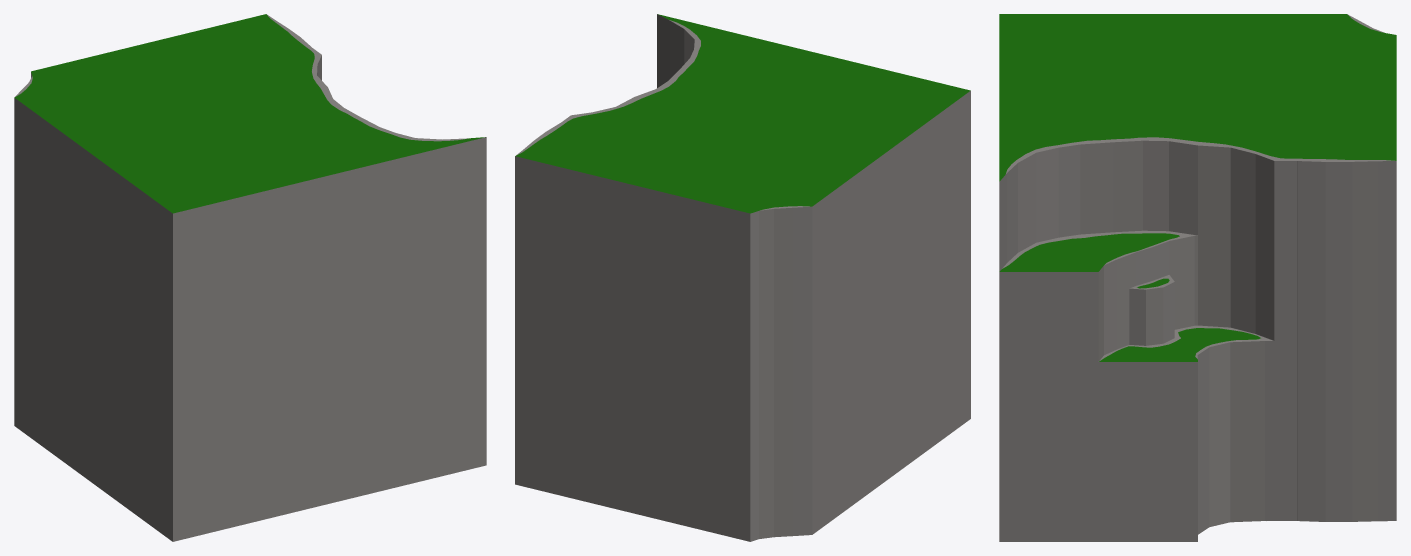
The model's file is StairToMountainDoubleMountain.fbx.
The picture shows the model from 3 angles, left to right: view 1: azimuth 30°, elevation 25°; view 2: azimuth 150°, elevation 25°; view 3: azimuth 270°, elevation 25°; orthographic projection. The views are drawn at different scales.
Parts seen in each view (by area): view 1: Plane.021; view 2: Plane.021; view 3: Plane.021.
Boxes of the visible parts, left/top/right/bottom form: Plane.021: left=14, top=14, right=486, bottom=541; Plane.021: left=515, top=14, right=970, bottom=541; Plane.021: left=999, top=14, right=1396, bottom=541.
Bounding box in the file's own units: 100 × 100 × 100.
